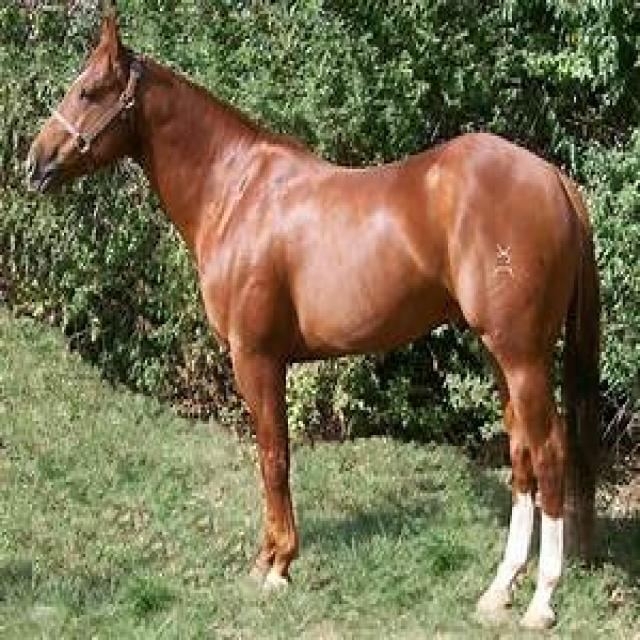horse: (26, 8, 608, 632)
